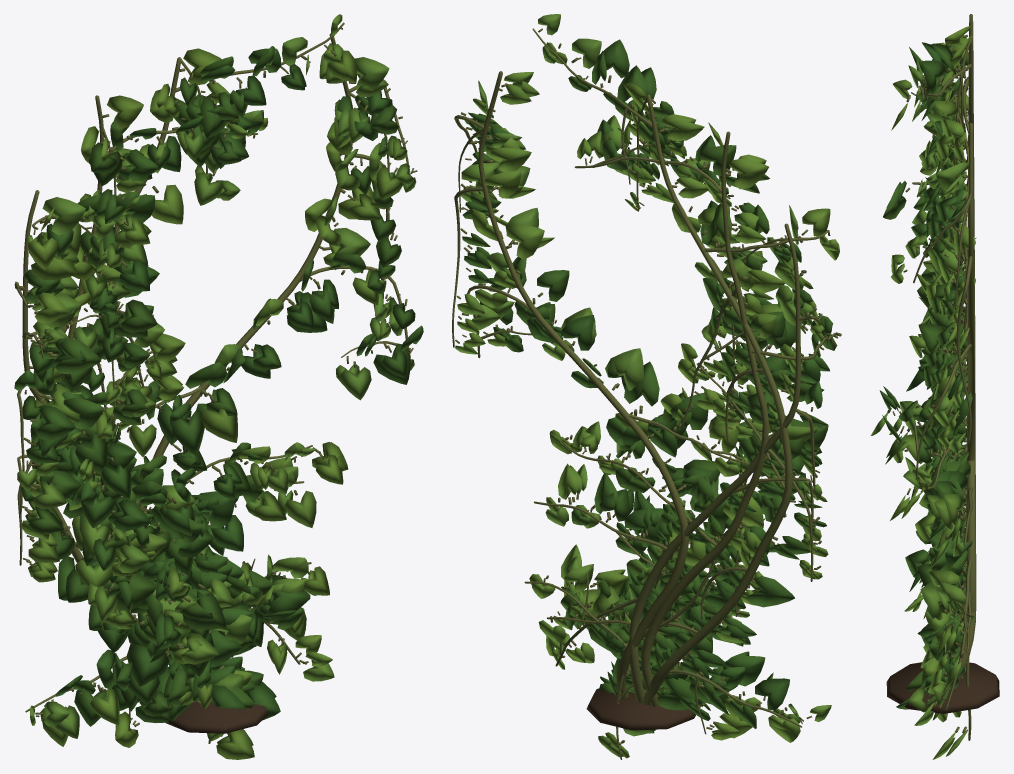
The model's file is climber_ivy_25b.glb.
3 views of the same model, side by side, from view 1: azimuth 30°, elevation 25°; view 2: azimuth 150°, elevation 25°; view 3: azimuth 270°, elevation 25° (orthographic). The views are drawn at different scales.
Parts seen in each view (by area): view 1: Sammel Pflanze, Sammel Putz; view 2: Sammel Pflanze, Sammel Putz; view 3: Sammel Pflanze, Sammel Putz.
Part boxes in pixels (bbox=[...]): Sammel Pflanze: bbox=[14, 14, 423, 759]; Sammel Putz: bbox=[14, 22, 417, 743]; Sammel Pflanze: bbox=[455, 14, 839, 758]; Sammel Putz: bbox=[452, 28, 841, 759]; Sammel Pflanze: bbox=[870, 25, 976, 759]; Sammel Putz: bbox=[886, 14, 999, 740].
Size of the model in its own units: 1.25 by 2.3 by 0.3689.
